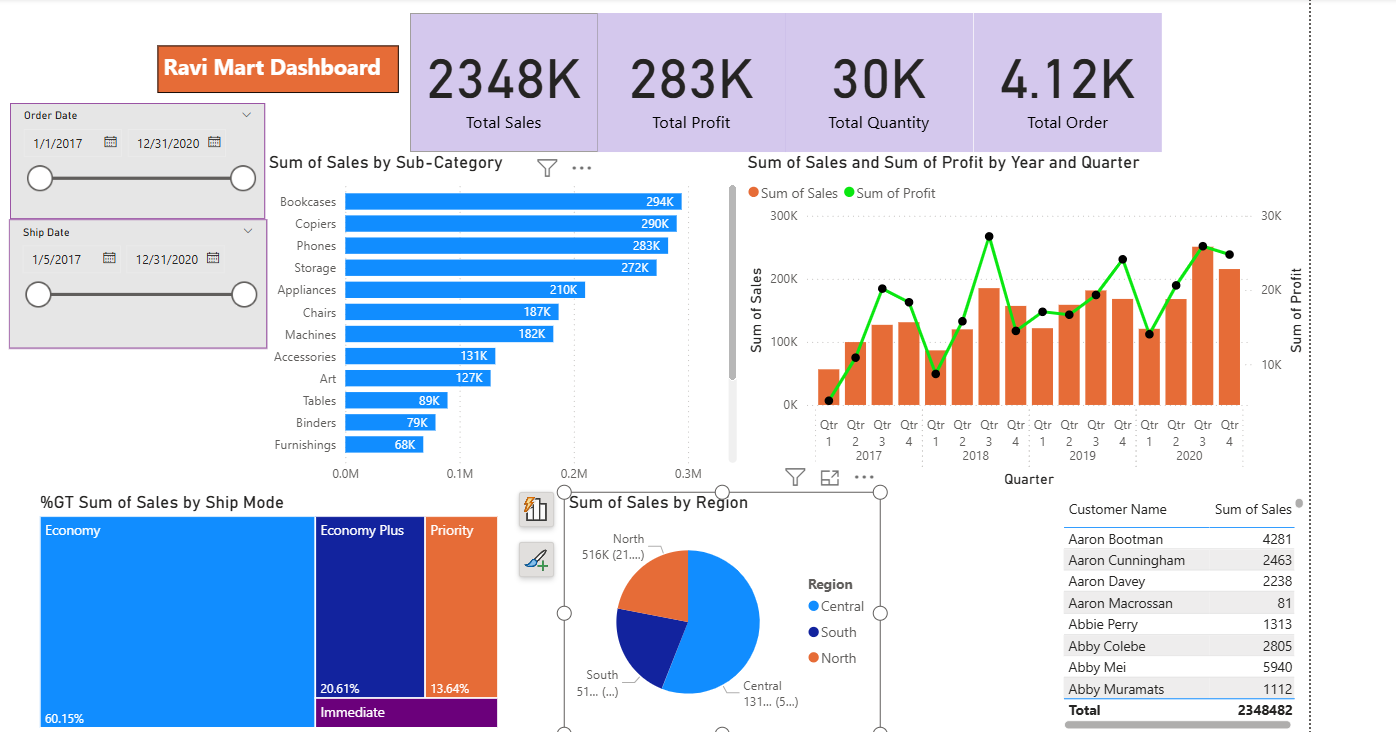

What the dashboard file says about the page in this screenshot:
{"tool":"powerbi","page":{"name":"Page 1","canvas":[1280,720],"ordinal":0},"visuals":[{"type":"tableEx","fields":{"Values":["List of Orders.Customer Name","Order Breakdown.Sales"]},"box":[1034.7,484.4,245.6,236],"z":0},{"type":"barChart","fields":{"Category":["Order Breakdown.Sub-Category"],"Y":["Order Breakdown.Sales"]},"box":[258,150.9,467.9,333.4],"z":1000},{"type":"pieChart","fields":{"Category":["List of Orders.Region"],"Y":["Order Breakdown.Sales"]},"box":[725.9,484.4,308.7,236],"z":2000},{"type":"lineClusteredColumnComboChart","fields":{"Category":["List of Orders.Order Date.Variation.Date Hierarchy.Year","List of Orders.Order Date.Variation.Date Hierarchy.Quarter","List of Orders.Order Date.Variation.Date Hierarchy.Month","List of Orders.Order Date.Variation.Date Hierarchy.Day"],"Y":["Order Breakdown.Sales"],"Y2":["Order Breakdown.Profit"]},"box":[725.9,150.9,554.4,333.4],"z":3000},{"type":"treemap","fields":{"Group":["List of Orders.Ship Mode"],"Values":["Order Breakdown.Sales"]},"box":[258,484.4,456.9,236],"z":4000},{"type":"azureMap","title":"Sales By Location","fields":{"Category":["List of Orders.Country","List of Orders.State","List of Orders.City"],"Size":["Order Breakdown.Sales"]},"box":[1.4,370.5,256.6,349.9],"z":5000},{"type":"card","title":"Total Sales","fields":{"Values":["Order Breakdown.Sales"]},"box":[400.7,15.1,183.9,135.8],"z":6000},{"type":"card","title":"Total Sales","fields":{"Values":["Order Breakdown.Profit"]},"box":[584.6,15.1,183.9,135.8],"z":7000},{"type":"card","title":"Total Sales","fields":{"Values":["Order Breakdown.Quantity"]},"box":[768.4,15.1,183.9,135.8],"z":8000},{"type":"card","title":"Total Sales","fields":{"Values":["List of Orders.Order ID"]},"box":[952.3,15.1,183.9,135.8],"z":9000},{"type":"textbox","title":"Ravi Mart Dashboard","box":[153.7,46.7,236,46.7],"z":10000},{"type":"slicer","fields":{"Values":["List of Orders.Order Date"]},"box":[9.6,102.9,249.7,113.9],"z":10001},{"type":"slicer","fields":{"Values":["List of Orders.Ship Date"]},"box":[8.2,216.8,252.5,126.2],"z":10002}]}

Visuals, with their boxes on the page's 1280x720 design canvas (x1, y1, x2, y2). These are canvas units, not pixel positions in the 1396x732 screenshot, which may show the page scaled, cropped or inside an application window:
tableEx - List of Orders.Customer Name x Order Breakdown.Sales: bbox=[1035, 484, 1280, 720]
barChart - Order Breakdown.Sub-Category x Order Breakdown.Sales: bbox=[258, 151, 726, 484]
pieChart - List of Orders.Region x Order Breakdown.Sales: bbox=[726, 484, 1035, 720]
lineClusteredColumnComboChart - List of Orders.Order Date.Variation.Date Hierarchy.Year x List of Orders.Order Date.Variation.Date Hierarchy.Quarter: bbox=[726, 151, 1280, 484]
treemap - List of Orders.Ship Mode x Order Breakdown.Sales: bbox=[258, 484, 715, 720]
"Sales By Location" azureMap: bbox=[1, 370, 258, 720]
"Total Sales" card: bbox=[401, 15, 585, 151]
"Total Sales" card: bbox=[585, 15, 768, 151]
"Total Sales" card: bbox=[768, 15, 952, 151]
"Total Sales" card: bbox=[952, 15, 1136, 151]
"Ravi Mart Dashboard" textbox: bbox=[154, 47, 390, 93]
slicer - List of Orders.Order Date: bbox=[10, 103, 259, 217]
slicer - List of Orders.Ship Date: bbox=[8, 217, 261, 343]
